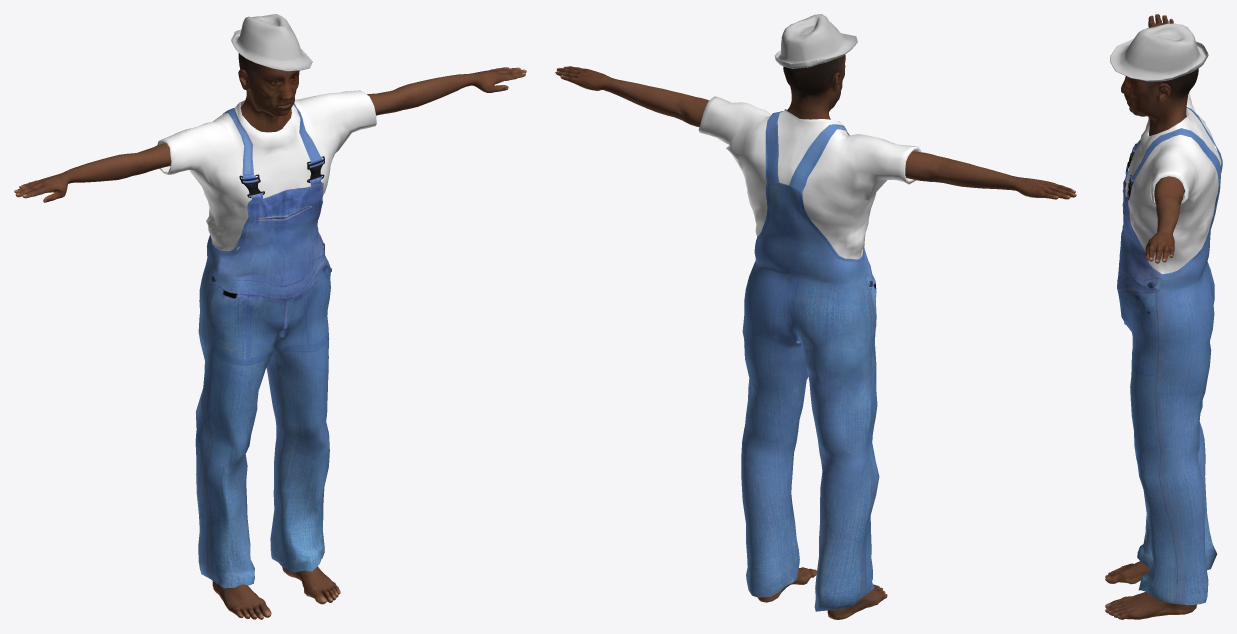
Rendered from pedestrian.gltf.
3 renders of one model, left to right at view 1: azimuth 30°, elevation 25°; view 2: azimuth 150°, elevation 25°; view 3: azimuth 270°, elevation 25°, orthographic. The views are drawn at different scales.
Visible parts, largest first — view 1: metacreators_raw_old_m-male_worksuit01_2, metacreators_raw_old_m-base_0, metacreators_raw_old_m-fedora_cocked_3; view 2: metacreators_raw_old_m-male_worksuit01_2, metacreators_raw_old_m-base_0, metacreators_raw_old_m-fedora_cocked_3; view 3: metacreators_raw_old_m-male_worksuit01_2, metacreators_raw_old_m-base_0, metacreators_raw_old_m-fedora_cocked_3.
Boxes of the visible parts, left/top/right/bottom form: metacreators_raw_old_m-male_worksuit01_2: left=157, top=90, right=376, bottom=588; metacreators_raw_old_m-base_0: left=14, top=53, right=526, bottom=619; metacreators_raw_old_m-fedora_cocked_3: left=231, top=14, right=312, bottom=71; metacreators_raw_old_m-male_worksuit01_2: left=698, top=96, right=921, bottom=611; metacreators_raw_old_m-base_0: left=555, top=54, right=1076, bottom=619; metacreators_raw_old_m-fedora_cocked_3: left=774, top=14, right=857, bottom=68; metacreators_raw_old_m-male_worksuit01_2: left=1117, top=93, right=1222, bottom=605; metacreators_raw_old_m-base_0: left=1105, top=14, right=1198, bottom=619; metacreators_raw_old_m-fedora_cocked_3: left=1110, top=23, right=1208, bottom=81.
Bounding box in the file's own units: 1.63 × 1.74 × 0.3261.
